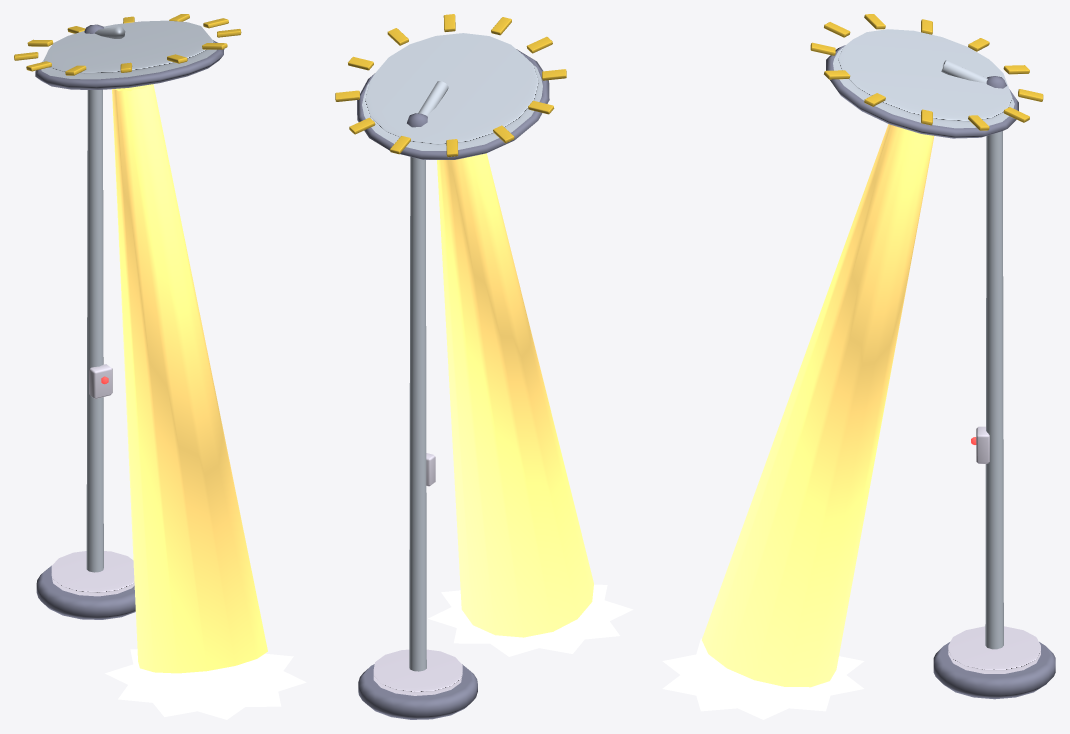
The model's file is sun_lamp.glb.
3 renders of one model, left to right at view 1: azimuth 30°, elevation 25°; view 2: azimuth 150°, elevation 25°; view 3: azimuth 270°, elevation 25°, orthographic. The views are drawn at different scales.
Visible parts, largest first — view 1: Beam.001, Stand, Patch; view 2: Beam.001, Stand, Patch; view 3: Beam.001, Stand, Patch.
Part boxes in pixels (bbox=[...]): Beam.001: bbox=[112, 84, 267, 673]; Stand: bbox=[14, 14, 241, 619]; Patch: bbox=[105, 649, 306, 719]; Beam.001: bbox=[437, 153, 593, 637]; Stand: bbox=[335, 14, 566, 719]; Patch: bbox=[428, 584, 633, 656]; Beam.001: bbox=[702, 124, 934, 687]; Stand: bbox=[810, 14, 1055, 699]; Patch: bbox=[662, 638, 864, 719].
Size of the model in its own units: 1.03 by 3.01 by 1.7.
